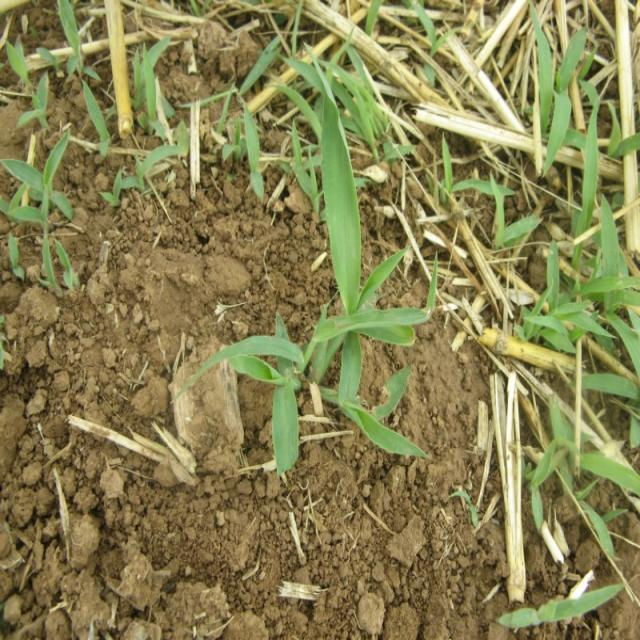bg: (194, 79, 436, 474)
